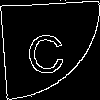C: (25, 25, 66, 75)
